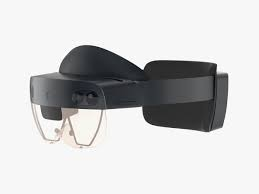hololens: (27, 46, 231, 151)
